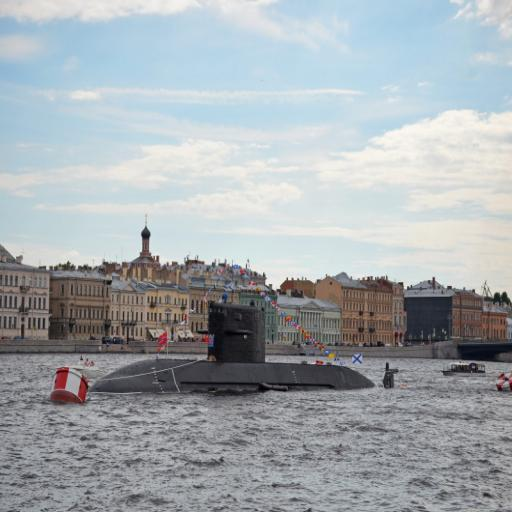submarine: (85, 298, 403, 391)
